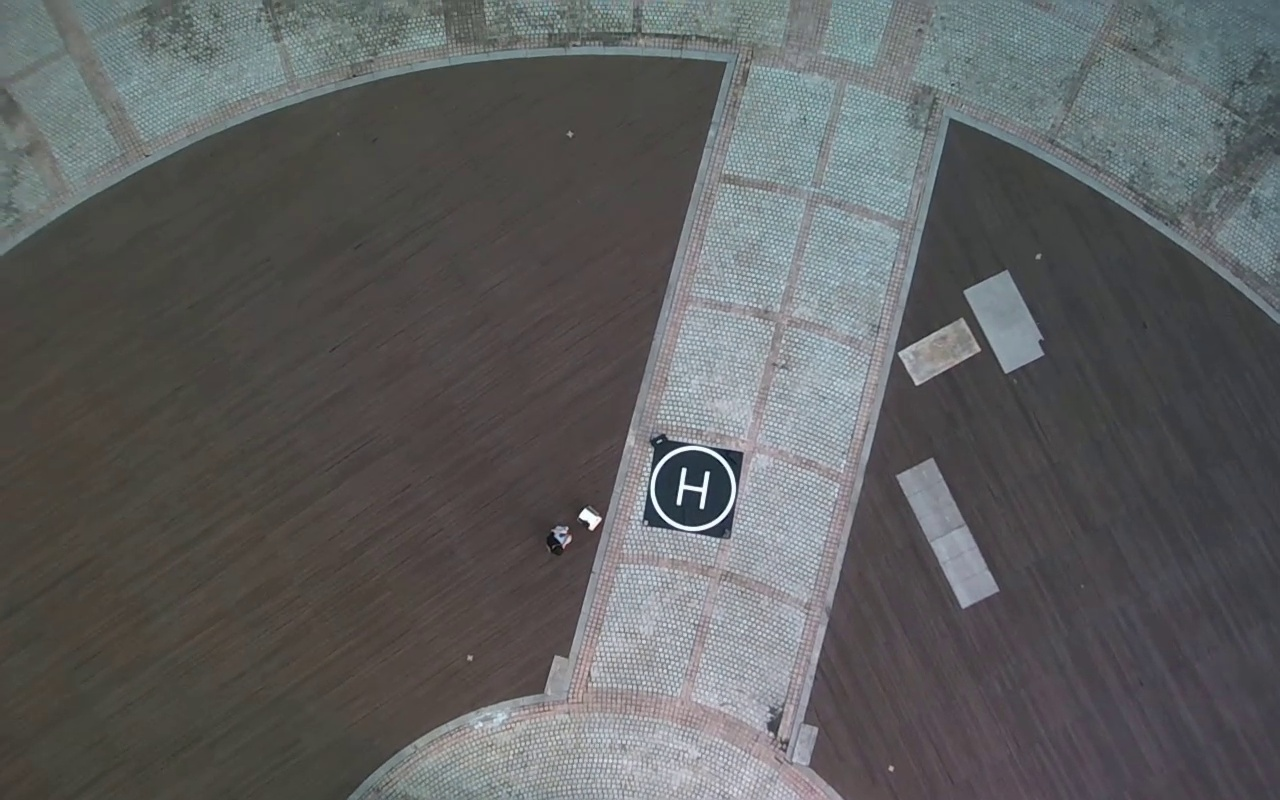H: (675, 465, 710, 509)
heliport: (650, 443, 737, 532)
